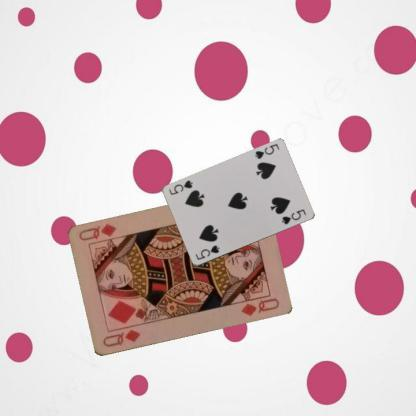5s: (193, 243, 221, 261), (252, 142, 280, 160)
Qd: (100, 327, 142, 348)
